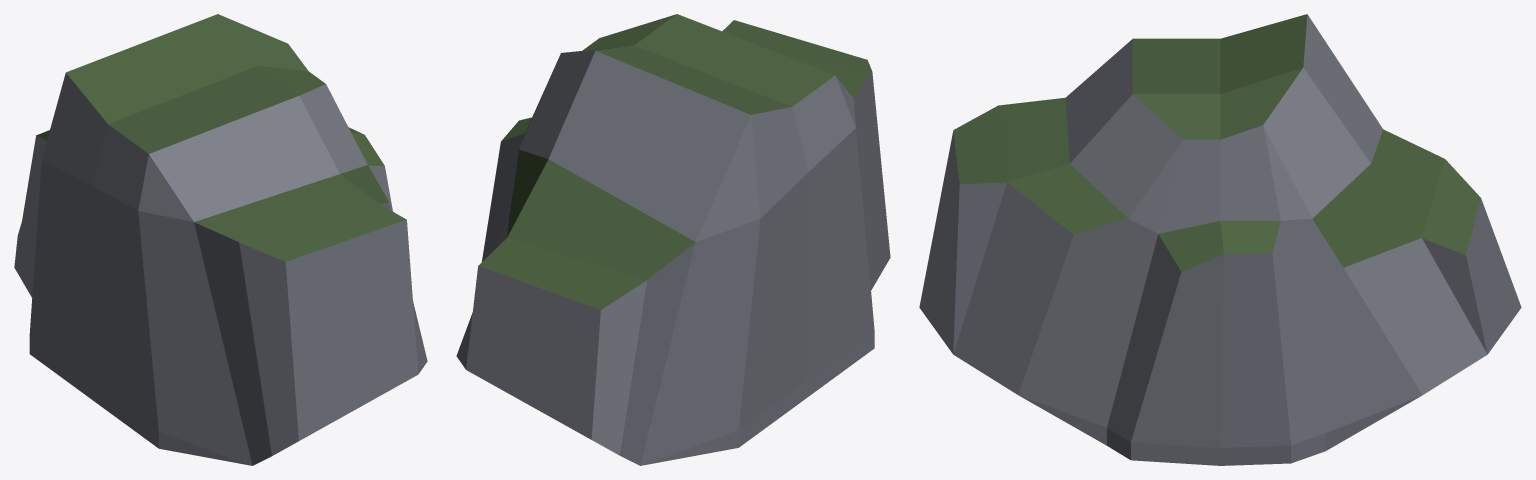
File: Rock_Moss_4.gltf
3 renders of one model, left to right at view 1: azimuth 30°, elevation 25°; view 2: azimuth 150°, elevation 25°; view 3: azimuth 270°, elevation 25°, orthographic. The views are drawn at different scales.
Visible parts, largest first — view 1: Rock_Moss_4; view 2: Rock_Moss_4; view 3: Rock_Moss_4.
Part boxes in pixels (x1=…): Rock_Moss_4: x1=14, y1=14, x2=427, y2=465; Rock_Moss_4: x1=456, y1=14, x2=890, y2=465; Rock_Moss_4: x1=919, y1=14, x2=1521, y2=465.
Size of the model in its own units: 0.7436 by 0.7836 by 1.25.
